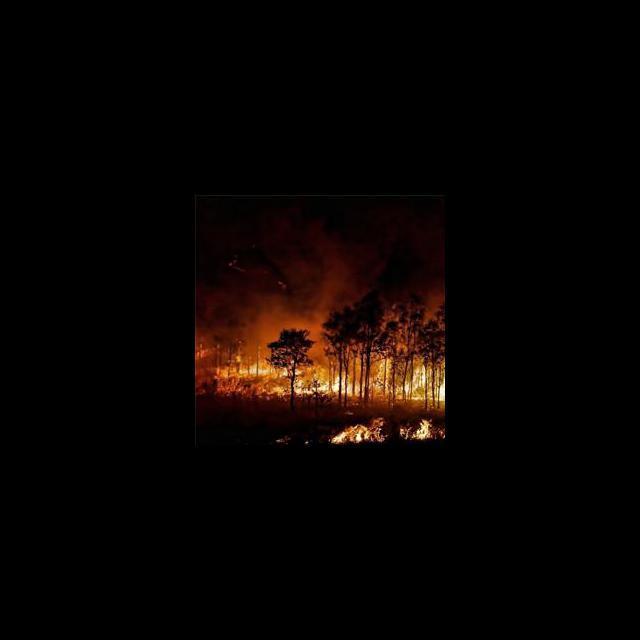Fire: (196, 351, 445, 405), (323, 414, 445, 444)
